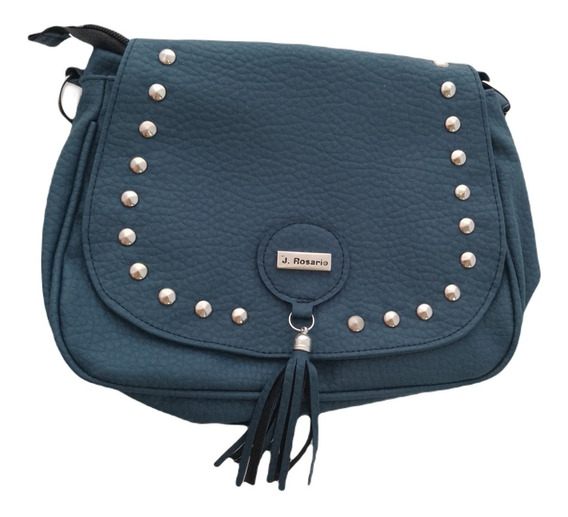cartera: (19, 21, 545, 428)
